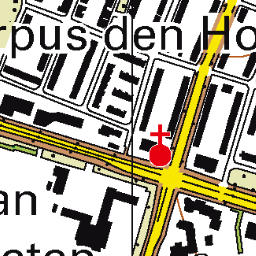church: (146, 123, 174, 170)
